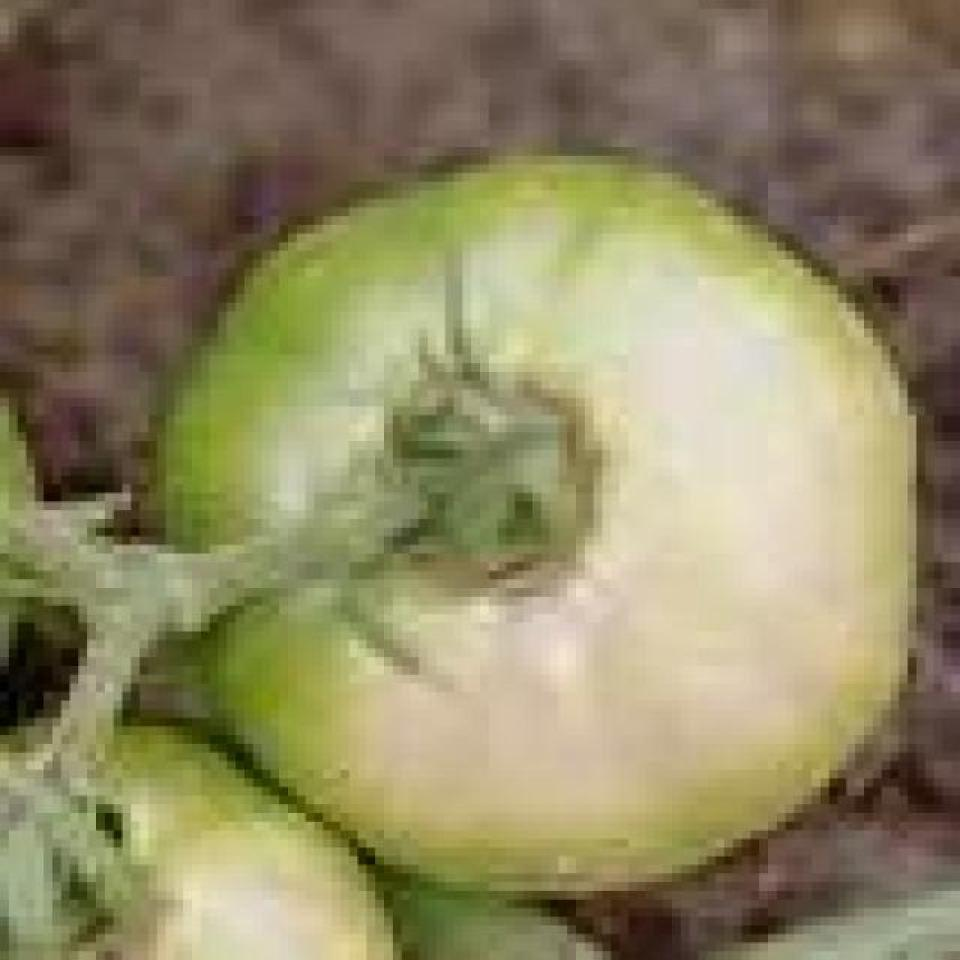Sunscald: (296, 246, 838, 808), (104, 796, 358, 952)
